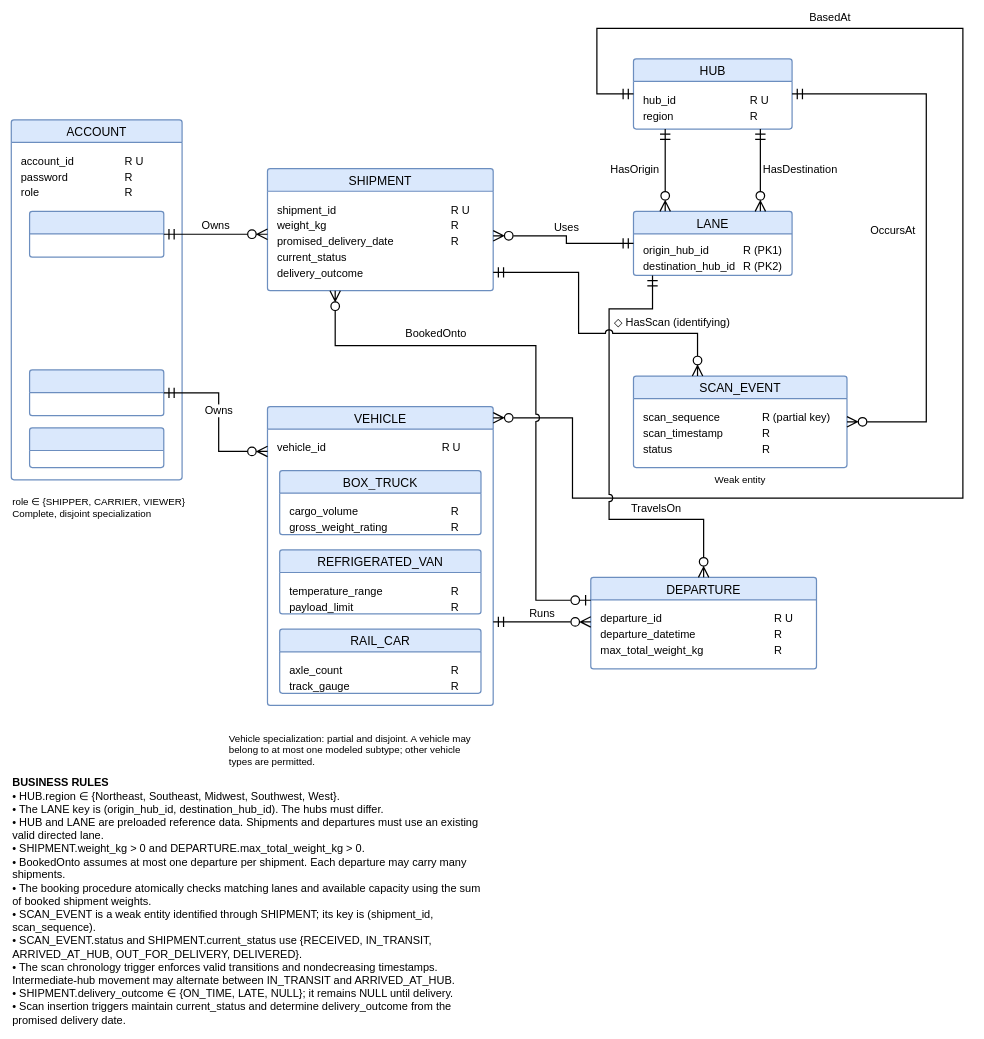
This 984x1039 diagram has some shape labels left out. Each missing label, with the centre of its shape:
CARRIER: (96,392)
SHIPPER: (96,233)
VIEWER: (96,447)
